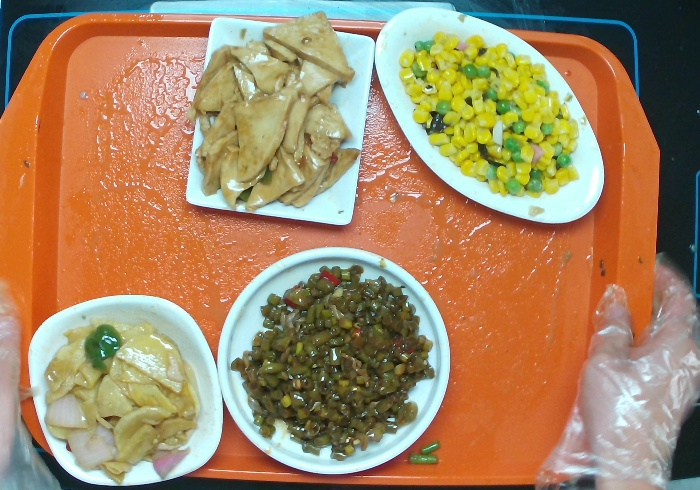HZYJPL-Si_Fang_Die: (182, 10, 379, 235)
HZYJPL-Si_Fang_Yuan_Die: (24, 287, 228, 490)
HZYJPL-Xiao_Yu_Die: (370, 4, 606, 228)
HZYJPL-Xiao_Yuan_Die: (210, 235, 458, 478)
